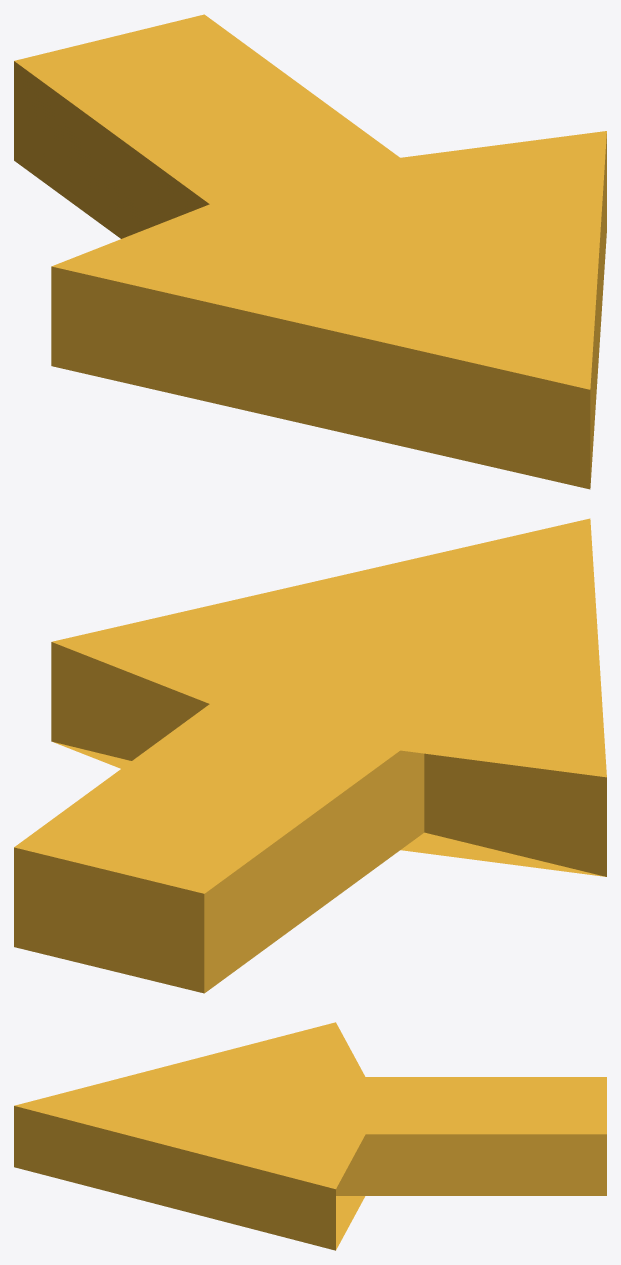
File: arrow.glb
The picture shows the model from 3 angles, top to bottom: view 1: azimuth 30°, elevation 25°; view 2: azimuth 150°, elevation 25°; view 3: azimuth 270°, elevation 25°; orthographic projection. The views are drawn at different scales.
Bounding box in the file's own units: 0.7 × 0.12 × 1.05.
